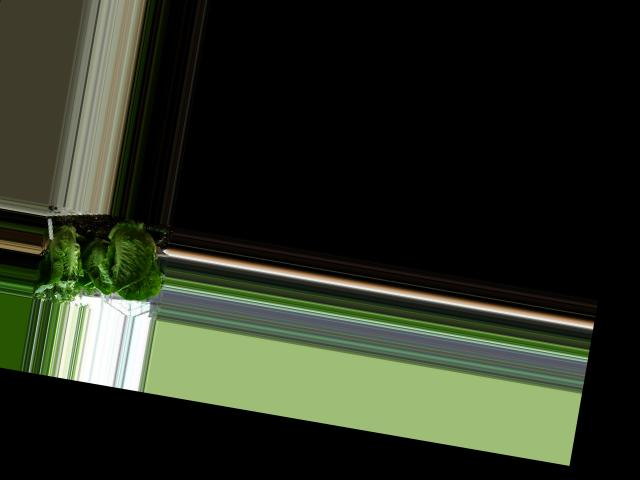lettuce: (38, 212, 93, 299)
